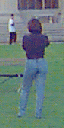person: (9, 15, 56, 117)
